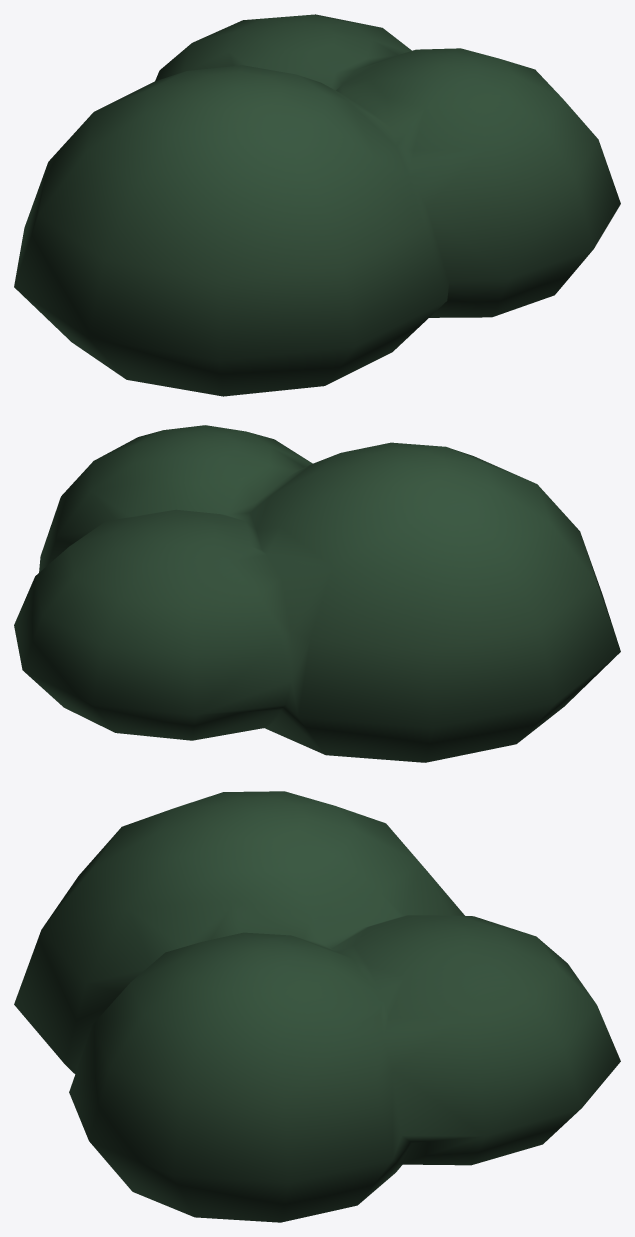
The model's file is plants-bushes-twigs-round-bush_v1.glb.
3 views of the same model, one above another, from view 1: azimuth 30°, elevation 25°; view 2: azimuth 150°, elevation 25°; view 3: azimuth 270°, elevation 25° (orthographic). The views are drawn at different scales.
Visible parts, largest first — view 1: Round Bush_v1; view 2: Round Bush_v1; view 3: Round Bush_v1.
Part boxes in pixels (<box>): Round Bush_v1: <box>14,14,620,396</box>; Round Bush_v1: <box>14,425,620,762</box>; Round Bush_v1: <box>14,791,620,1222</box>.
Size of the model in its own units: 1 by 0.4552 by 0.8997.
